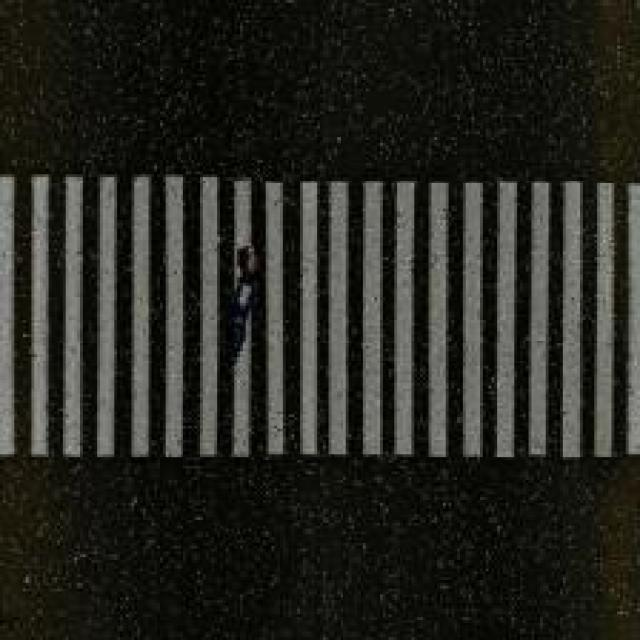crosswalk: (1, 168, 640, 460)
